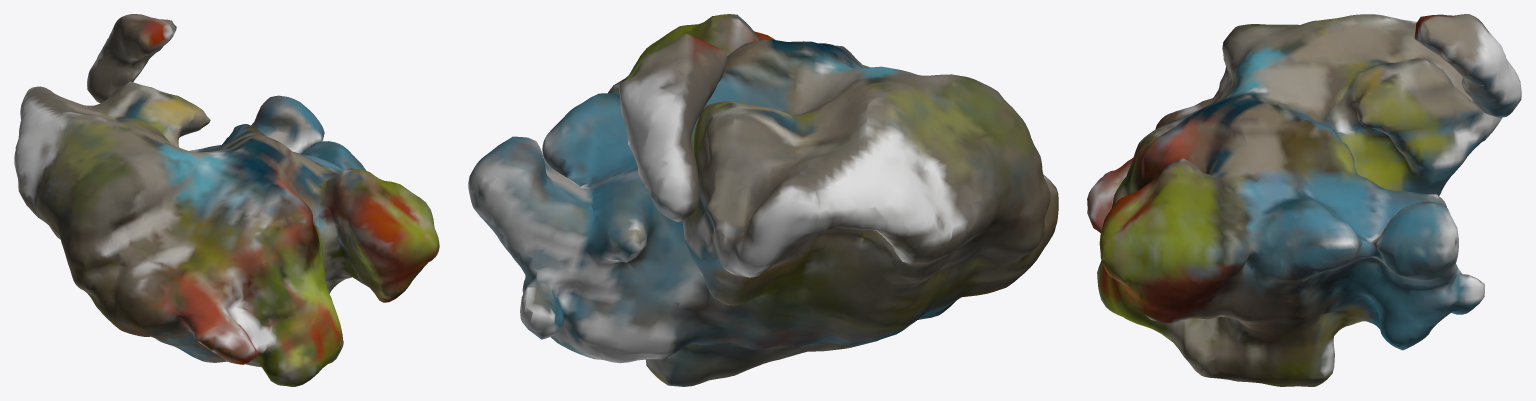
The model's file is blocks.glb.
3 views of the same model, side by side, from view 1: azimuth 30°, elevation 25°; view 2: azimuth 150°, elevation 25°; view 3: azimuth 270°, elevation 25° (orthographic). The views are drawn at different scales.
Bounding box in the file's own units: 0.9583 × 0.849 × 0.9999.
